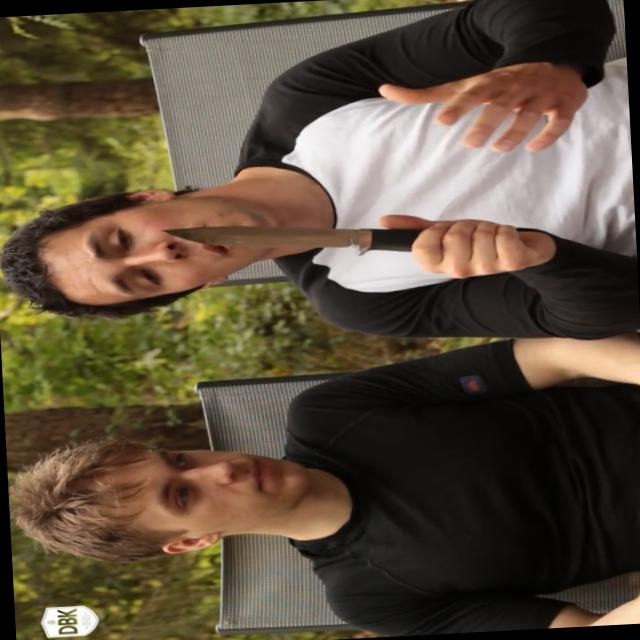knife: (140, 203, 511, 294)
